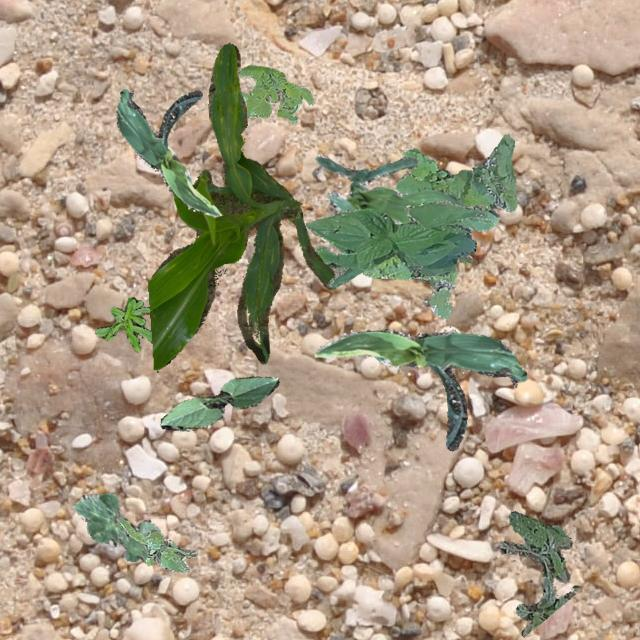crop: (146, 41, 334, 368), (314, 328, 526, 450), (314, 154, 474, 262), (305, 198, 487, 286), (116, 88, 220, 216), (158, 376, 278, 430), (72, 492, 158, 562)
weed: (361, 134, 516, 316), (498, 509, 578, 636), (116, 516, 196, 572), (238, 64, 312, 122), (94, 296, 150, 351)
